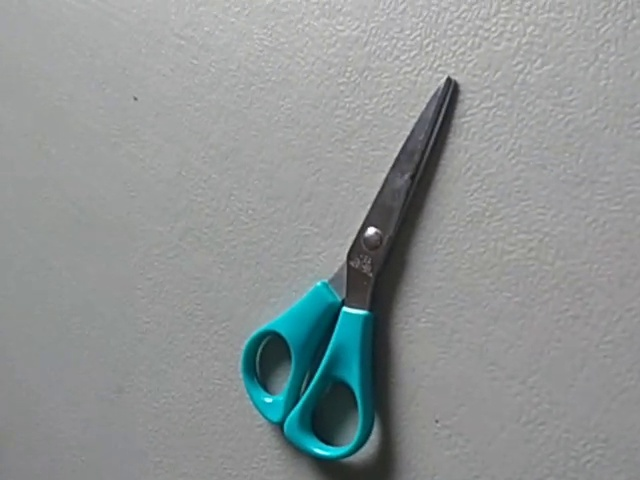Sizer: (229, 68, 472, 467)
